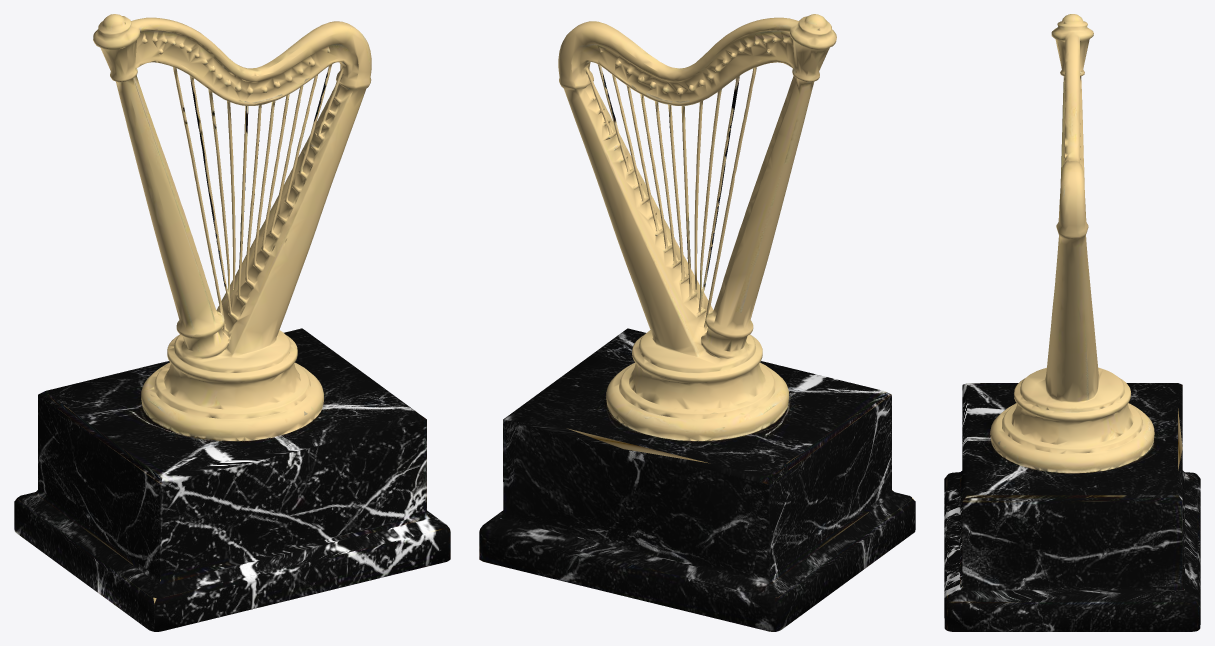
File: trophy.glb
3 views of the same model, side by side, from view 1: azimuth 30°, elevation 25°; view 2: azimuth 150°, elevation 25°; view 3: azimuth 270°, elevation 25° (orthographic). The views are drawn at different scales.
Parts seen in each view (by area): view 1: mesh; view 2: mesh; view 3: mesh.
Boxes of the visible parts, box(x1,y1,x2,y2) form: mesh: box(14, 14, 450, 631); mesh: box(479, 14, 915, 631); mesh: box(944, 14, 1200, 631).
Bounding box in the file's own units: 0.5645 × 1 × 0.4642.
Materials: 1 (1 with a texture image).
